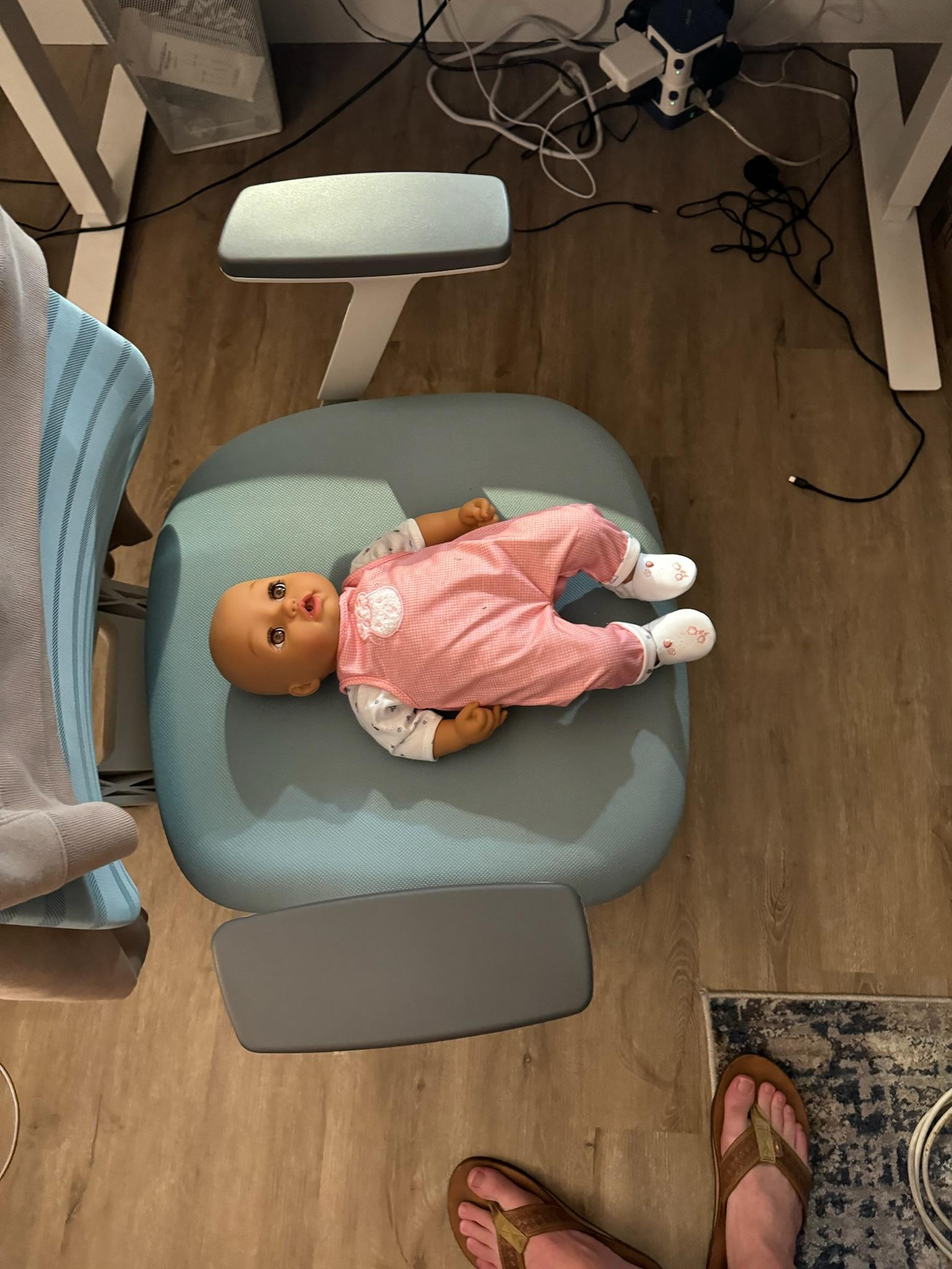baby: (165, 494, 721, 752)
